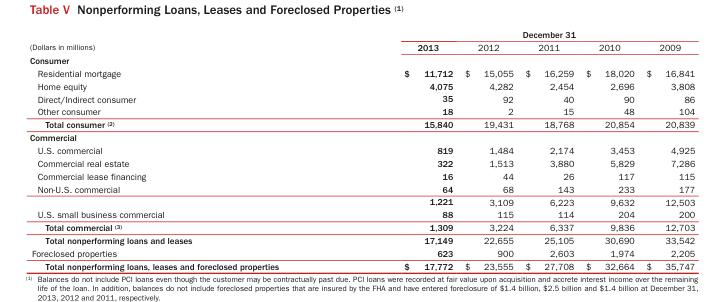table: (28, 28, 694, 271)
table column: (28, 28, 340, 271), (340, 28, 458, 271), (518, 28, 579, 271), (458, 28, 518, 271), (579, 28, 639, 271), (639, 28, 694, 271)
table column header: (28, 28, 694, 53)
table projected row header: (28, 53, 694, 66), (28, 130, 694, 143)
table row: (28, 40, 694, 53), (28, 53, 694, 66), (28, 66, 694, 79), (28, 91, 694, 104), (28, 104, 694, 117), (28, 117, 694, 130), (28, 130, 694, 143), (28, 143, 694, 156), (28, 156, 694, 169), (28, 169, 694, 182), (28, 194, 694, 207), (28, 207, 694, 220), (28, 220, 694, 233), (28, 233, 694, 246), (28, 246, 694, 259), (28, 28, 694, 40), (28, 79, 694, 91), (28, 182, 694, 194), (28, 259, 694, 271)
table spanning cell: (28, 28, 340, 53), (340, 28, 694, 40)
